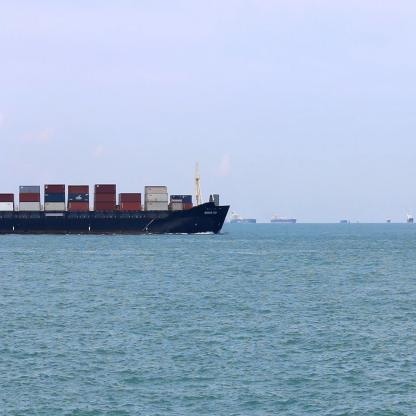Container Ship: (0, 158, 231, 235), (231, 206, 259, 224), (270, 209, 300, 224), (405, 207, 415, 227), (340, 214, 352, 228), (386, 212, 394, 224), (356, 213, 362, 228)
